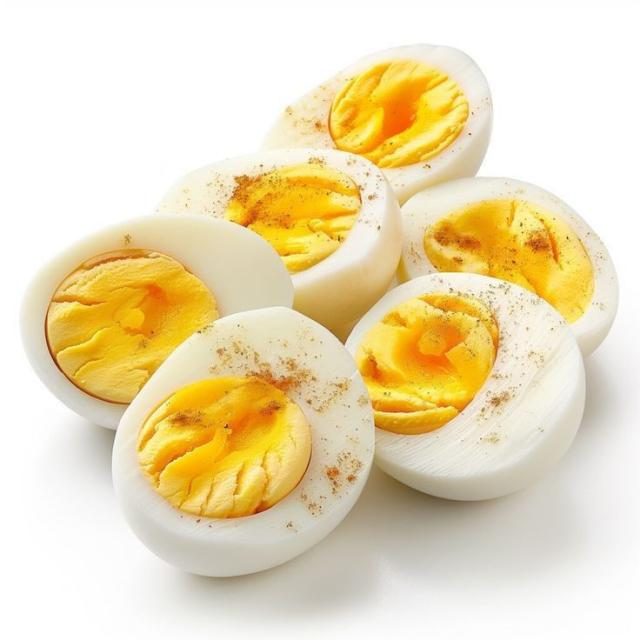egg boiled: (114, 307, 374, 576), (22, 214, 293, 429), (346, 275, 584, 499), (157, 149, 400, 330), (397, 177, 617, 355), (262, 44, 492, 203), (123, 234, 130, 244)
